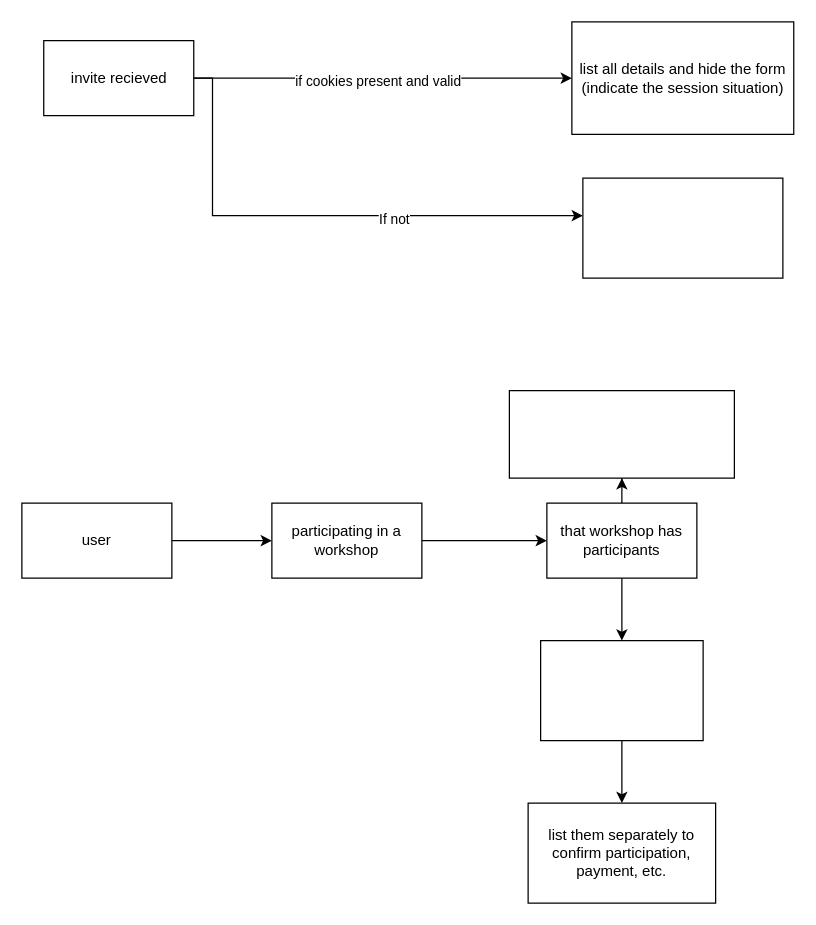
This 816x925 diagram has some shape labels left out. The box of each missing label's shape, as (x1, y1, x2, y2) in pixels:
check for all participants with the email of the user: (539, 639, 703, 741)
Each unique workshop has unique participants, no global participant store: (508, 389, 734, 478)
list most basic details and offer a login form (email verification): (582, 177, 783, 278)
